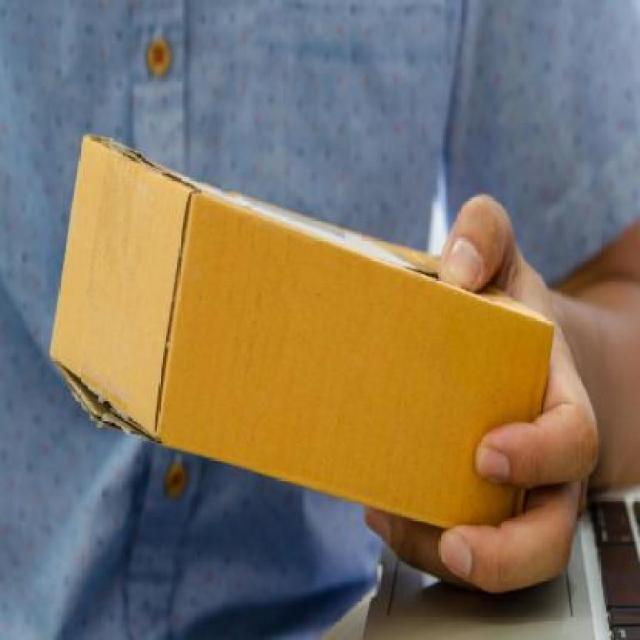box: (52, 130, 552, 544)
